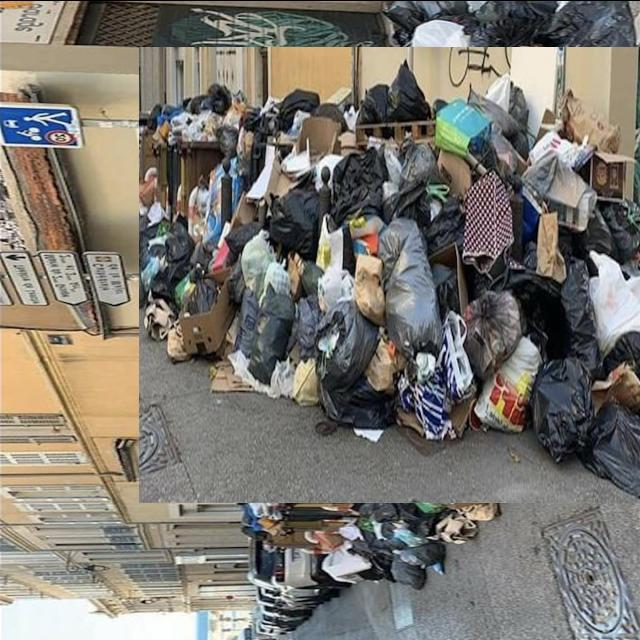garbage: (161, 23, 640, 525)
